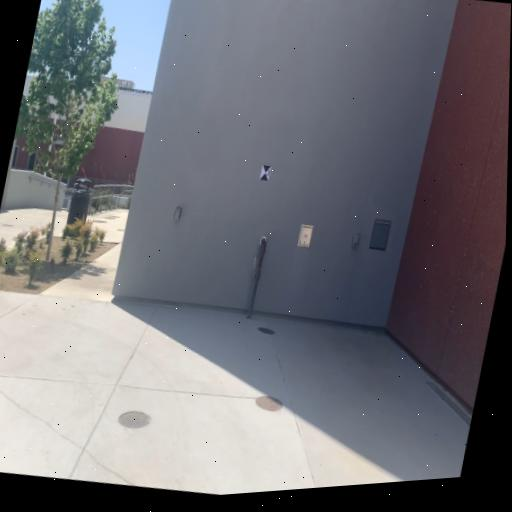target3: (259, 163, 271, 181)
